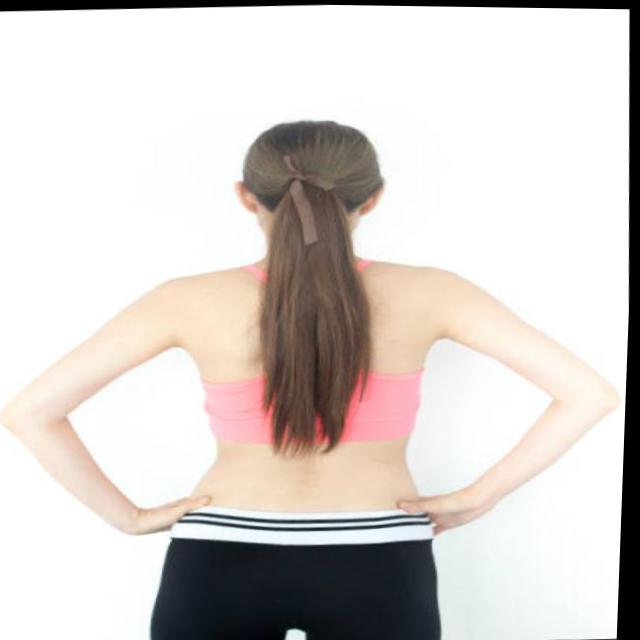no helmet: (227, 108, 395, 238)
